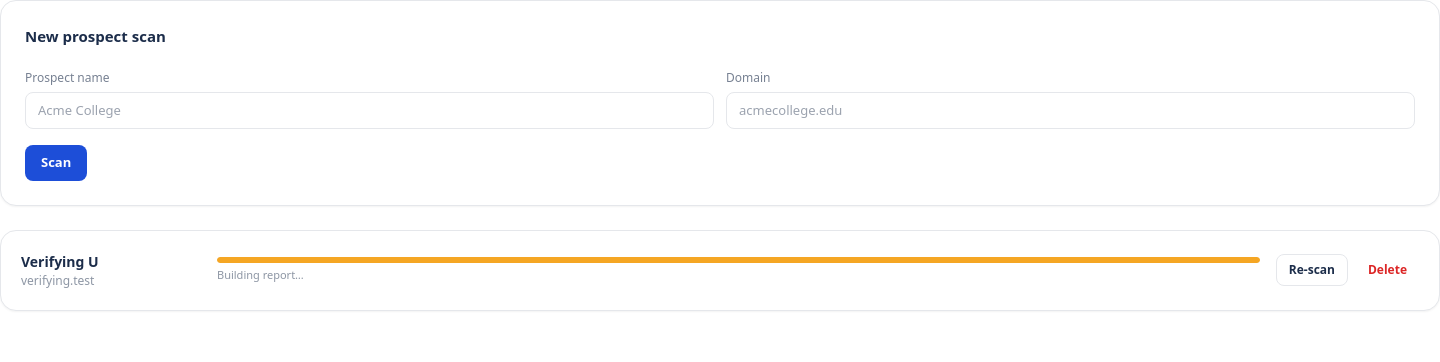
Test: ProspectDashboard — PR3 progress + clickable cards › failed share POST closes the pre-opened tab and shows a notice
What coordinates should you click on to do the following:
click the link "Verifying U verifying.test Building report… Re-scan Delete"
I would click on:
 (60, 261)
Its box is [21,252,1419,288].
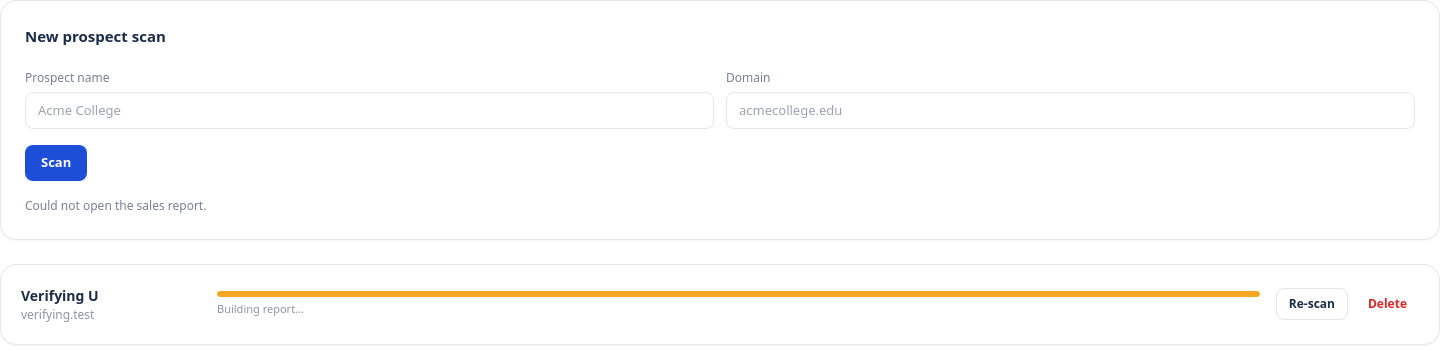
Check: the text "Could not open the sales report." is shown, box [25,196,206,214]
